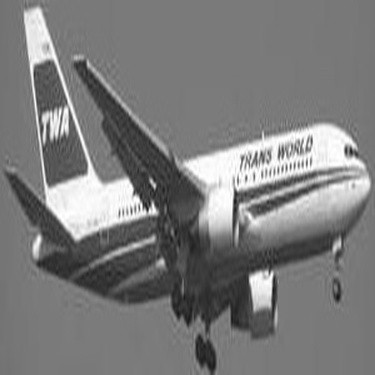airplane: (4, 5, 371, 374)
